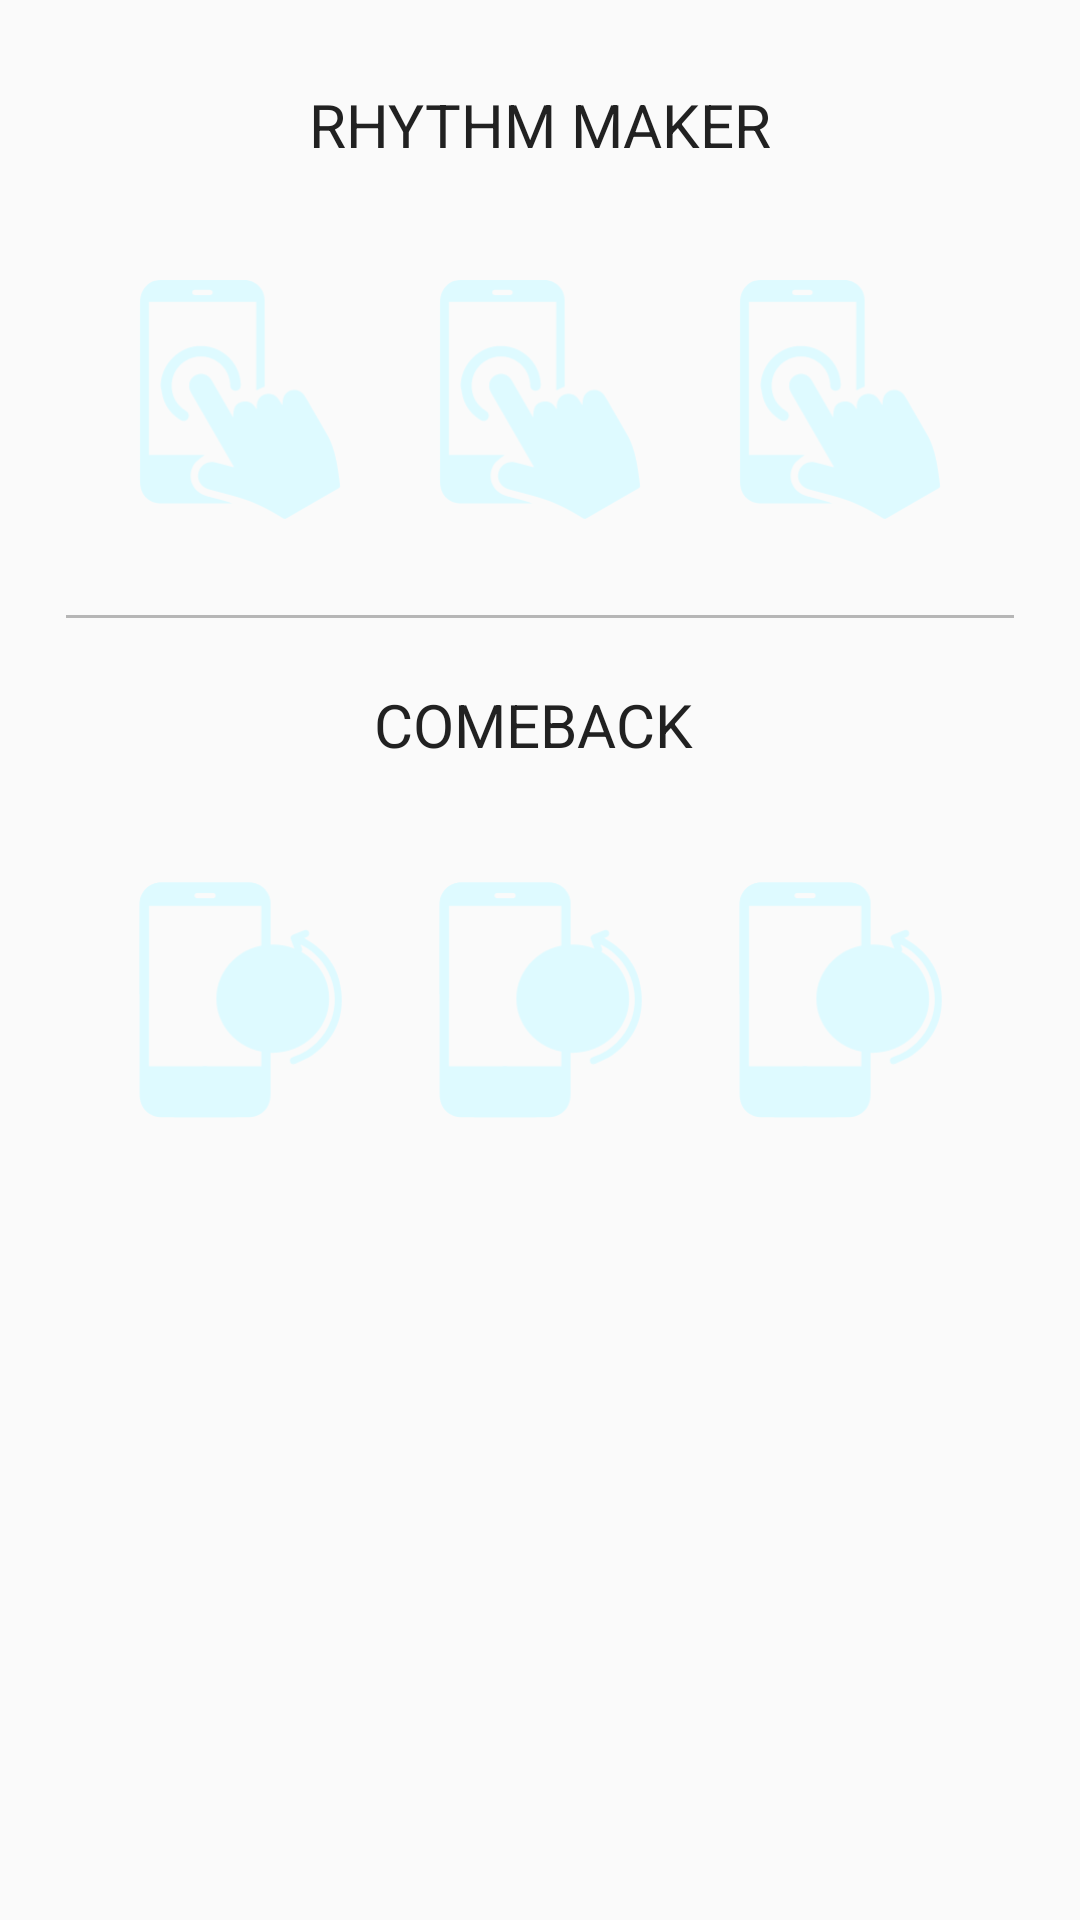

Screen size 1080w x 1920h. Icon name, then its box in pixels as detection(x1, y1, x2, y2):
tapping: detection(140, 280, 340, 518), detection(440, 280, 640, 518), detection(740, 280, 940, 518)
